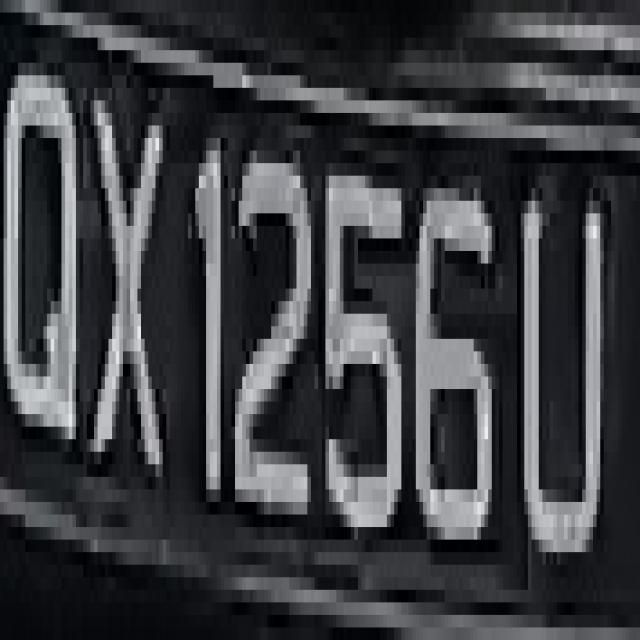1: (195, 75, 235, 565)
2: (228, 113, 311, 540)
5: (322, 126, 416, 552)
6: (416, 125, 499, 590)
Q: (11, 38, 79, 439)
U: (517, 150, 611, 590)
X: (73, 63, 174, 489)
